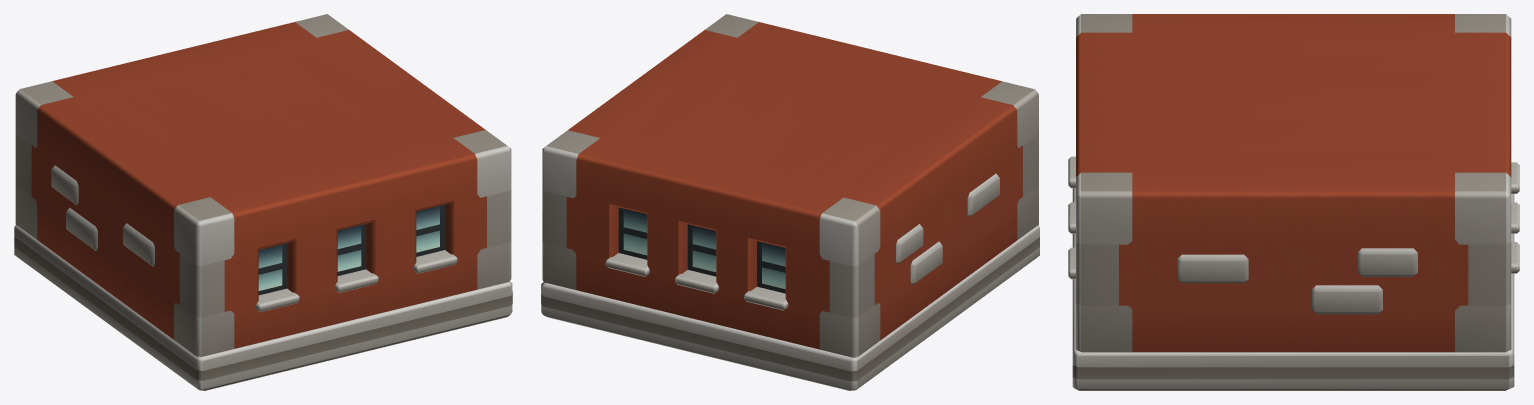
File: appartment_type1_x4_element_red.fbx
3 views of the same model, side by side, from view 1: azimuth 30°, elevation 25°; view 2: azimuth 150°, elevation 25°; view 3: azimuth 270°, elevation 25° (orthographic). The views are drawn at different scales.
Visible parts, largest first — view 1: appartment_type1_x4_element_red; view 2: appartment_type1_x4_element_red; view 3: appartment_type1_x4_element_red.
Boxes of the visible parts, <box> form: appartment_type1_x4_element_red: <box>14,14,512,390</box>; appartment_type1_x4_element_red: <box>541,14,1039,390</box>; appartment_type1_x4_element_red: <box>1068,14,1519,390</box>.
Bounding box in the file's own units: 819 × 409 × 839.
